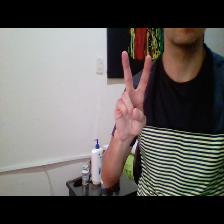KP: (111, 48, 157, 141)
